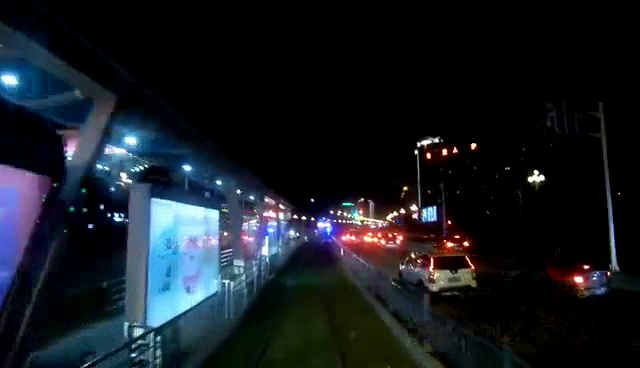car: (398, 251, 474, 296), (550, 260, 613, 297), (441, 235, 471, 253)
